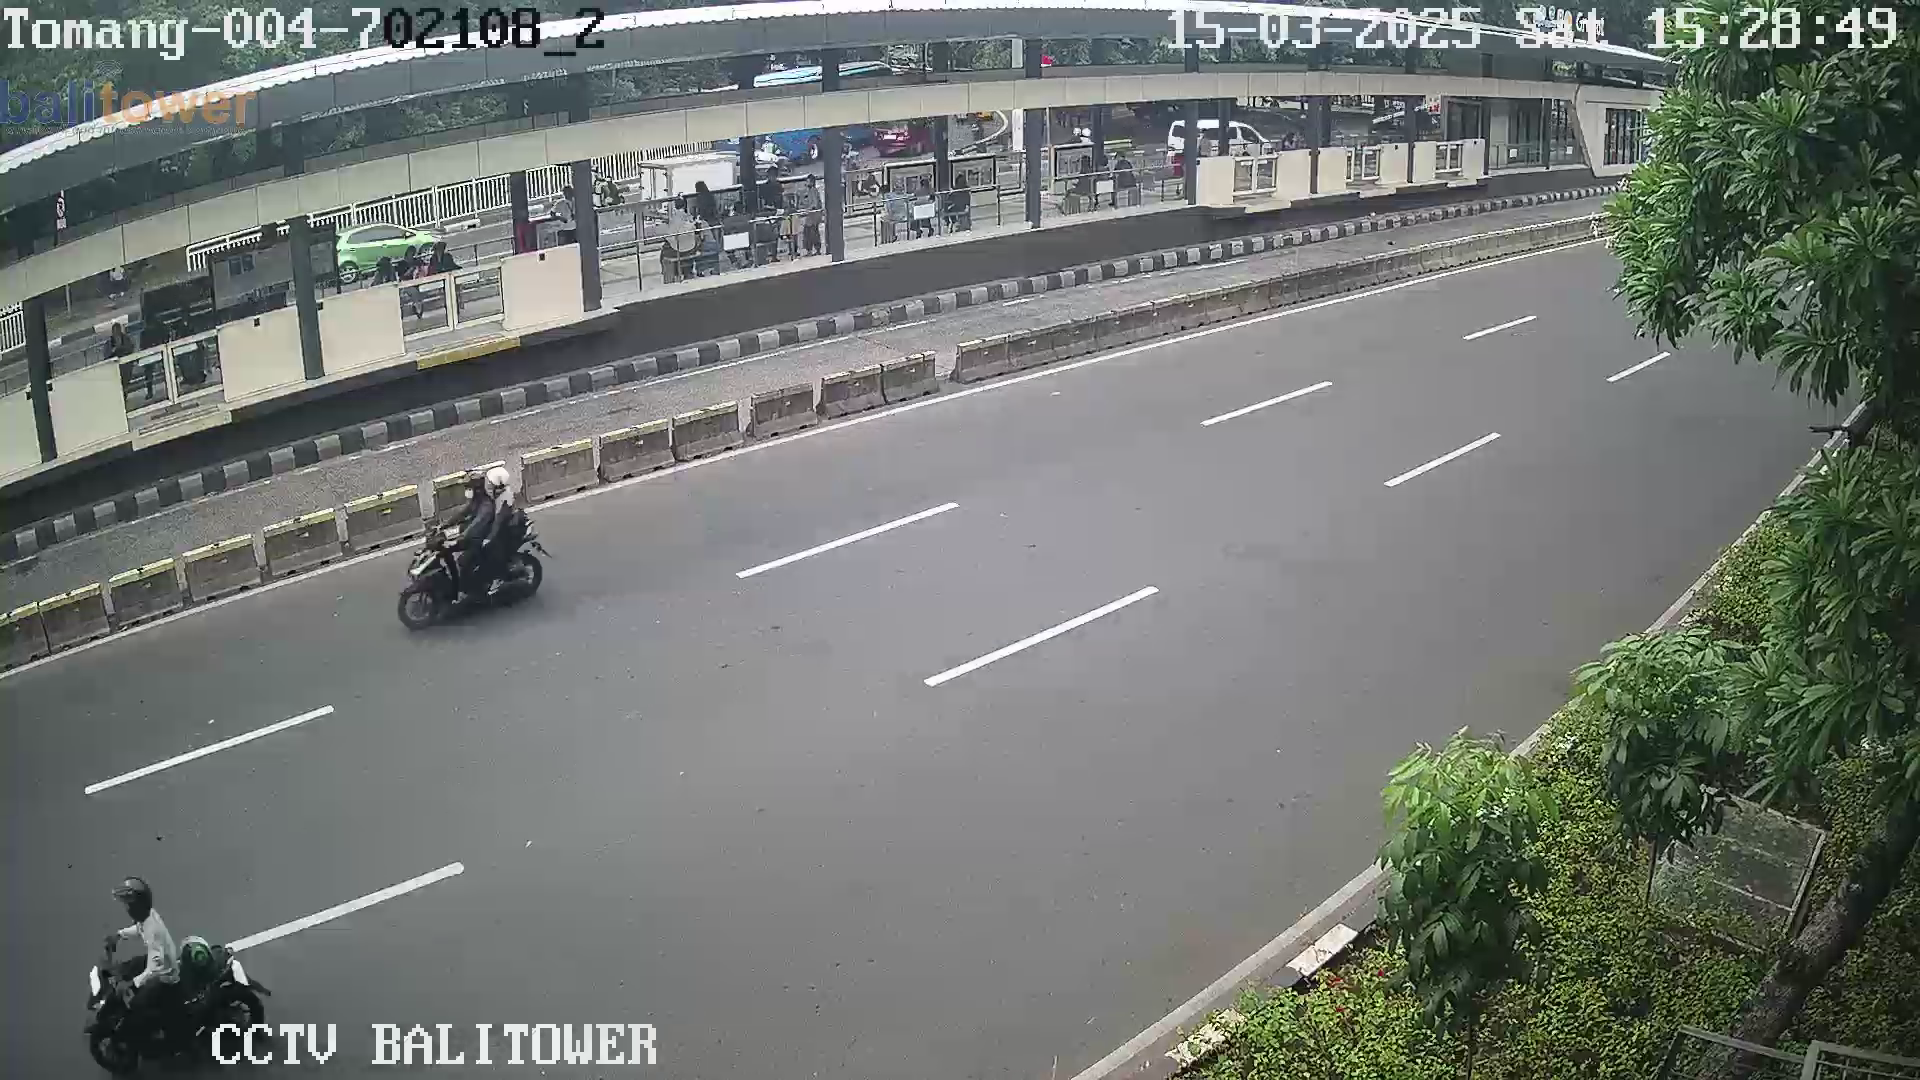half-face helmet: (114, 873, 161, 920), (182, 933, 214, 976), (488, 469, 523, 500), (457, 469, 484, 506)
